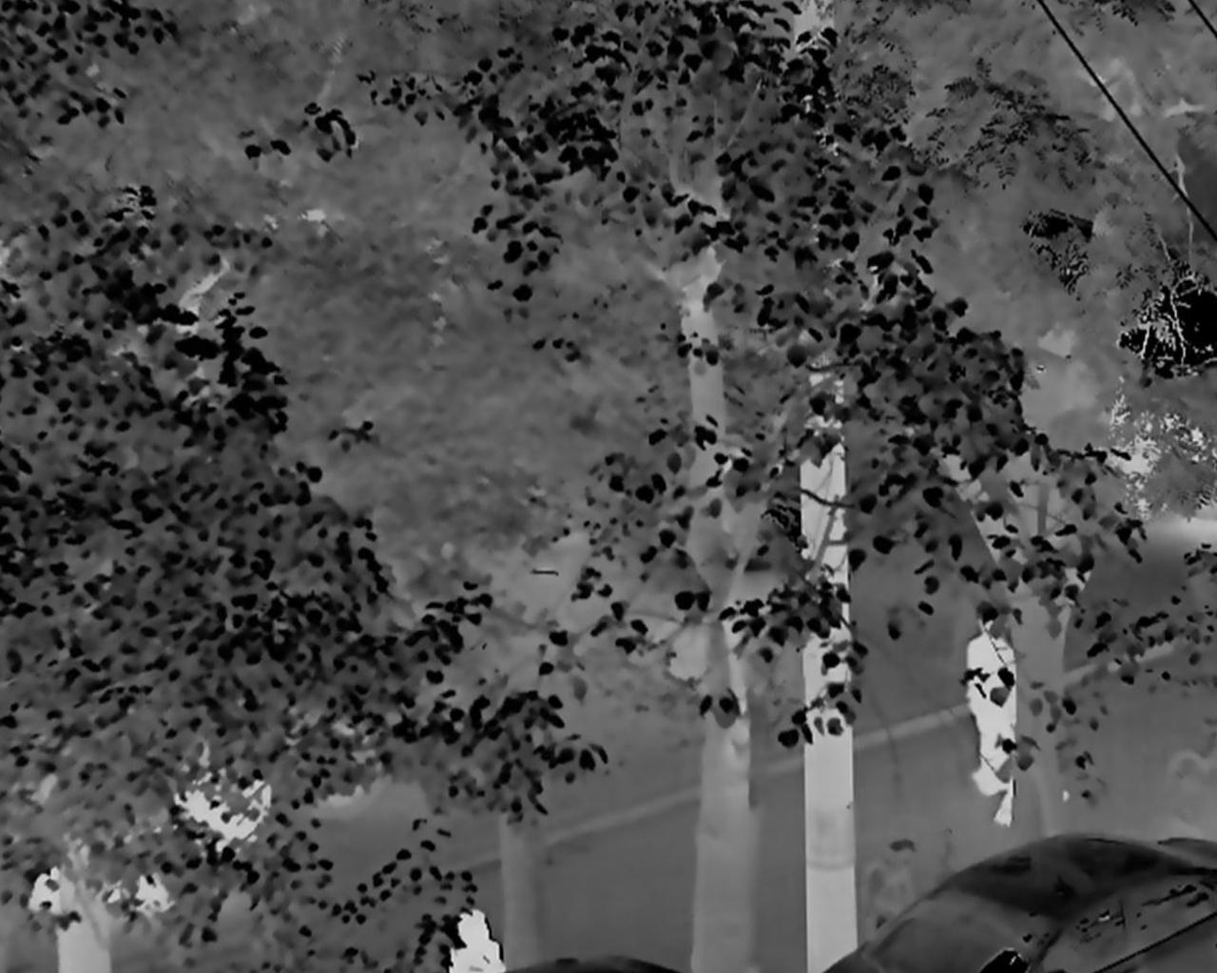person: (967, 606, 1020, 801)
